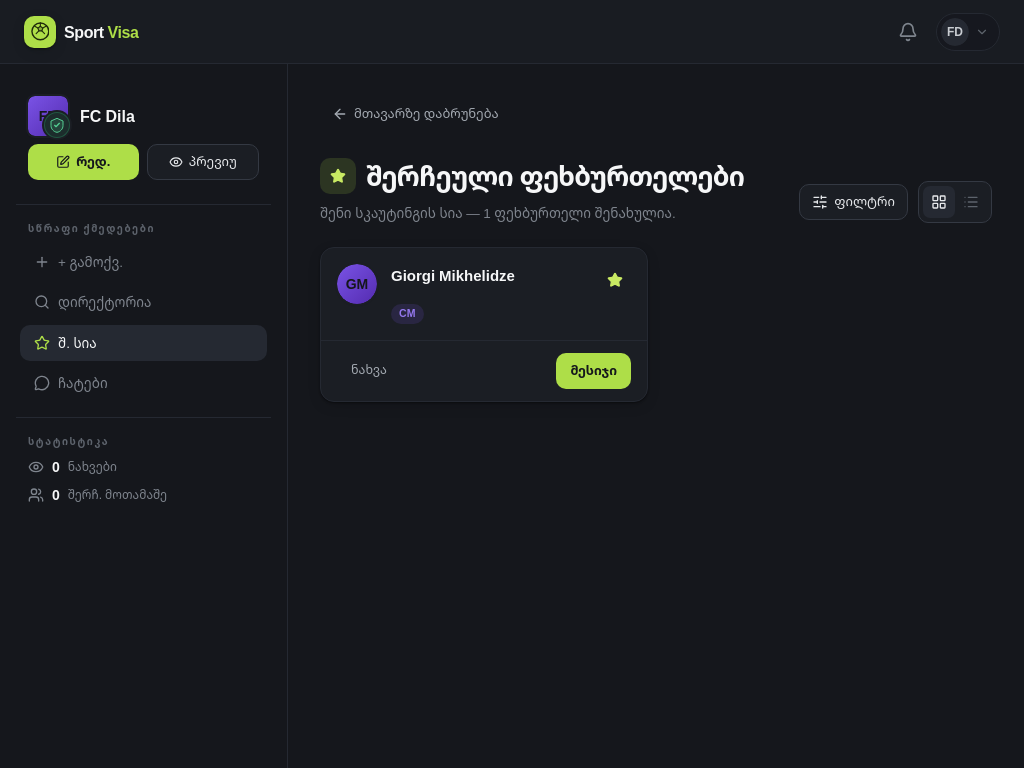
ShortlistClient — remove interaction › removes item from list on successful removal
This screenshot has width=1024, height=768.
Click the button named "სიიდან ამოშლა": (615, 280) [599,264,631,296]
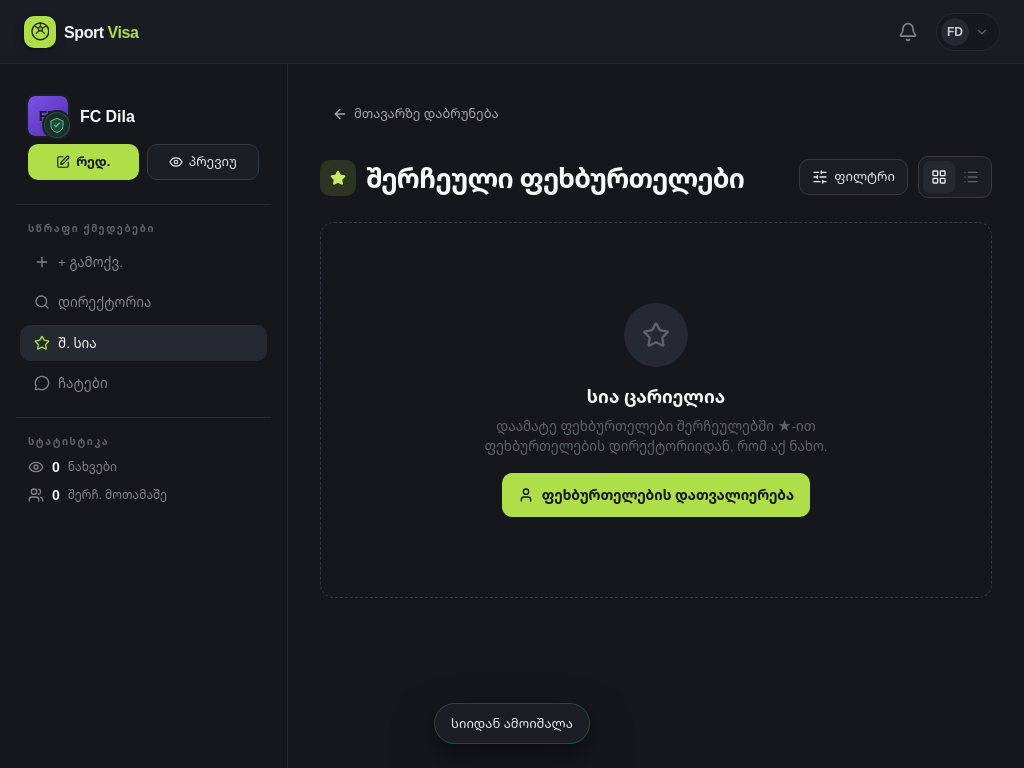
Check: the text "Giorgi Mikhelidze" is gone
